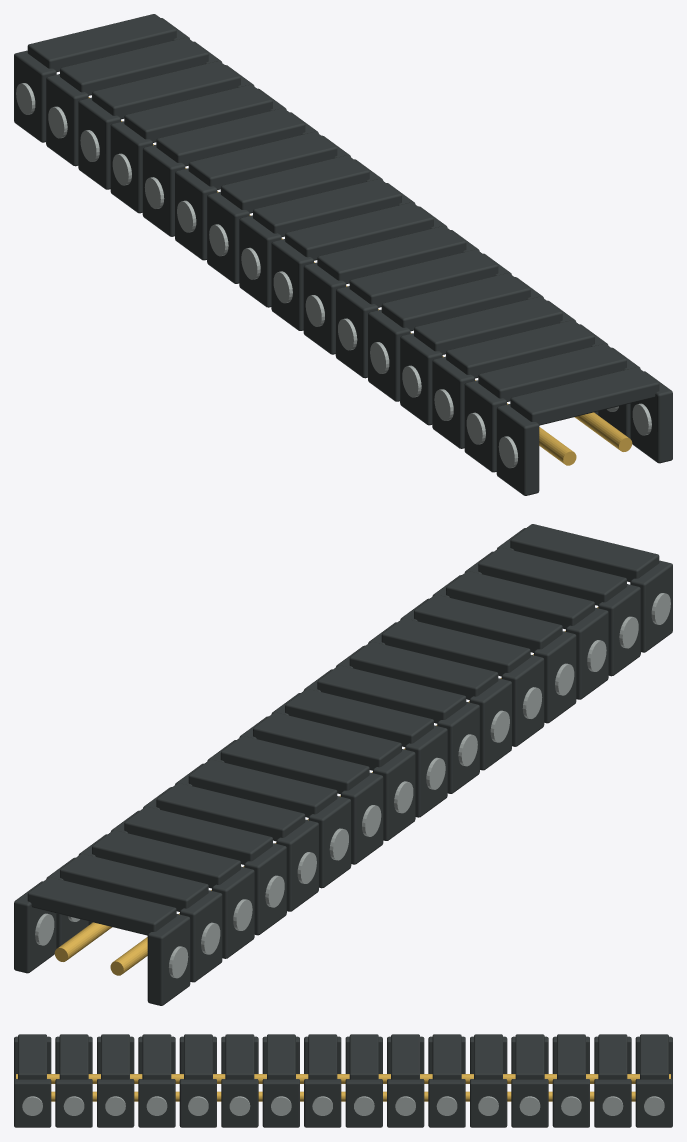
The model's file is automated-parking-and-vehicle-retrieval-automated-park-8130d1b9__30373.glb.
3 renders of one model, top to bottom at view 1: azimuth 30°, elevation 25°; view 2: azimuth 150°, elevation 25°; view 3: azimuth 270°, elevation 25°, orthographic. The views are drawn at different scales.
Visible parts, largest first — view 1: automated-parking-and-vehicle-retrieval-cable-carrier-chain_ (×3); view 2: automated-parking-and-vehicle-retrieval-cable-carrier-chain_ (×3); view 3: automated-parking-and-vehicle-retrieval-cable-carrier-chain_ (×3).
Boxes of the visible parts, box(x1,y1,x2,y2) form: automated-parking-and-vehicle-retrieval-cable-carrier-chain_ (×3): box(14, 14, 672, 495); automated-parking-and-vehicle-retrieval-cable-carrier-chain_ (×3): box(14, 524, 672, 1005); automated-parking-and-vehicle-retrieval-cable-carrier-chain_ (×3): box(14, 1034, 672, 1127).
Size of the model in its own units: 0.28 by 0.1349 by 1.59.
